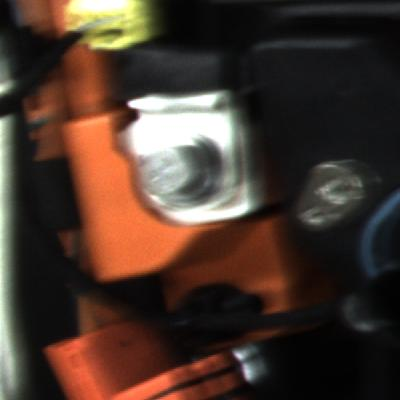nut_b: (130, 130, 227, 215)
